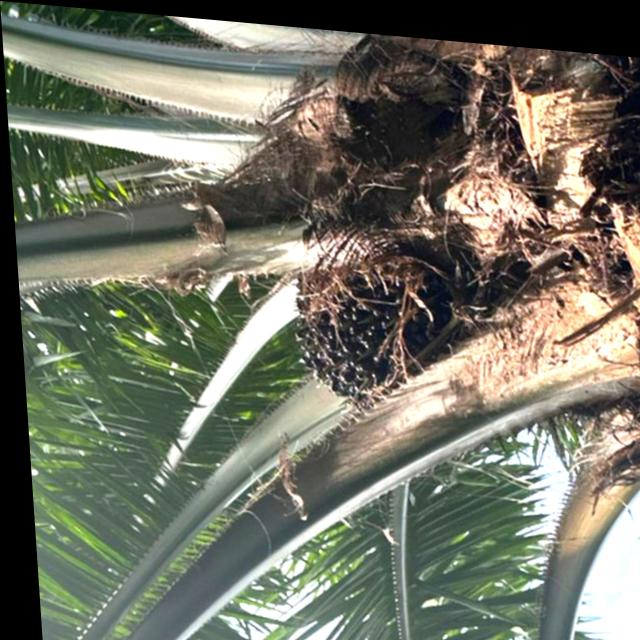almost: (270, 231, 463, 416)
